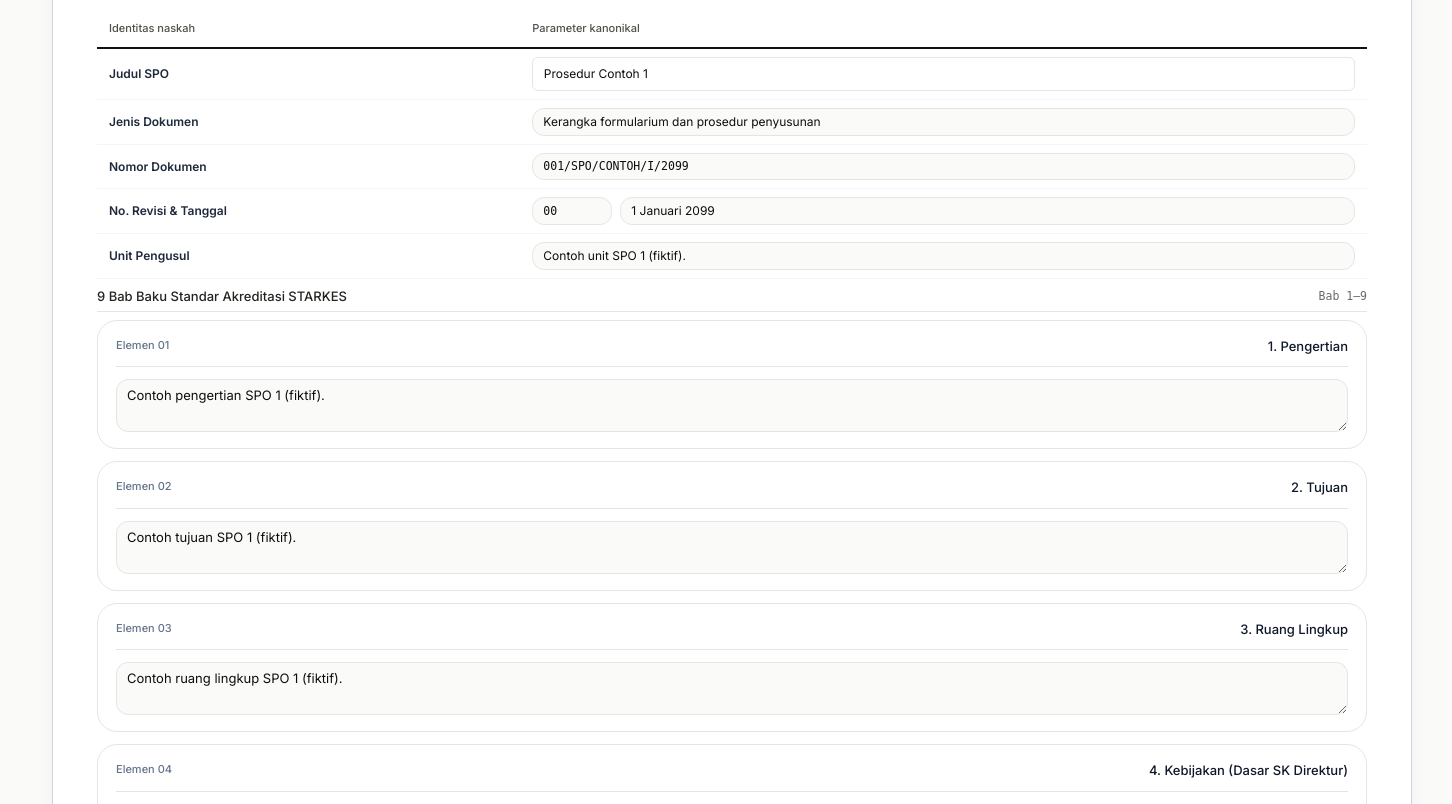
Test case: Studio editor: SPO › reports missing basics in the status line and next to the editor
(page scrolled)
Replace the text in the text box named "1. Pengertian" with "pendek" at (732, 406), box [116,379,1348,432]
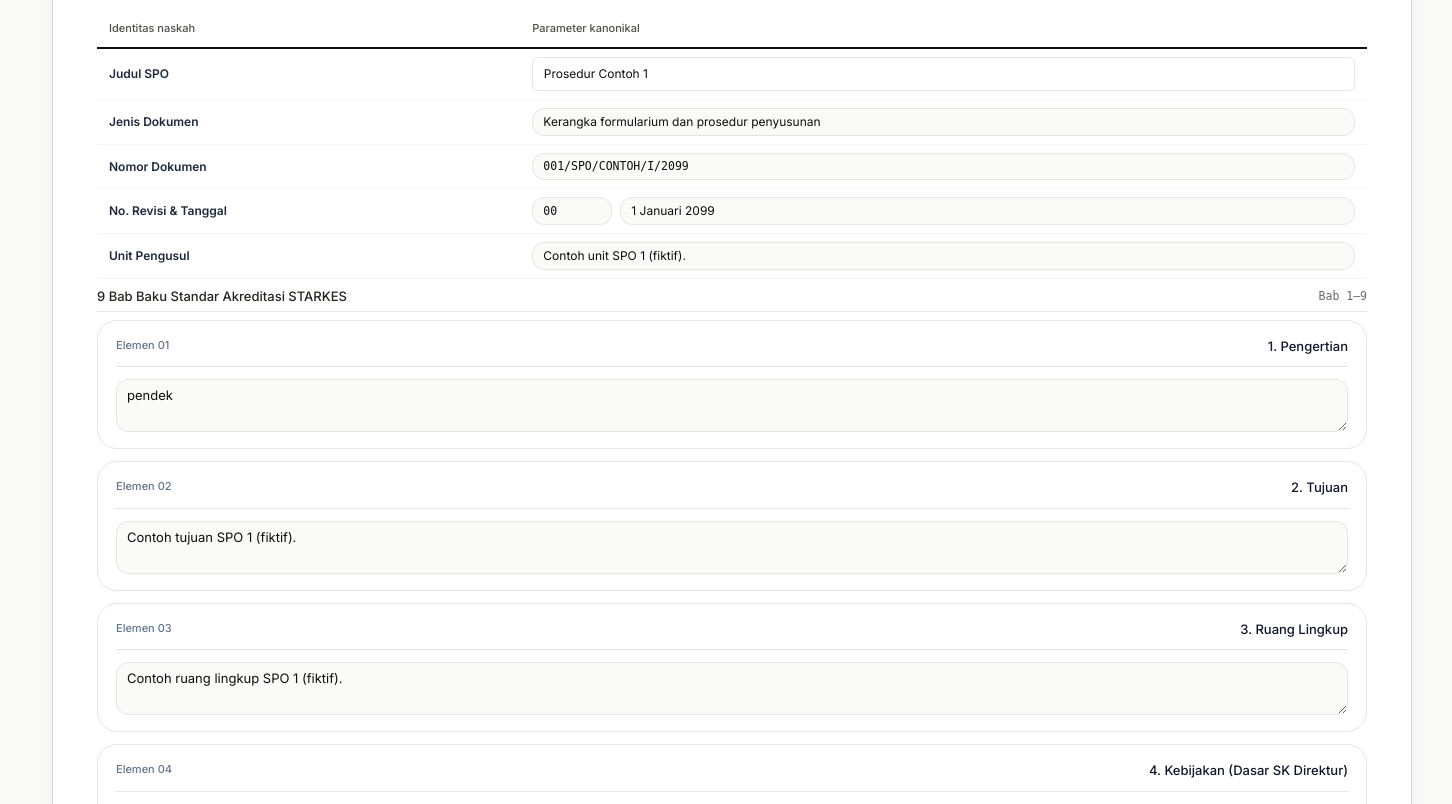
Replace the text in the text box named "1. Pengertian" with "cukup panjang" at (732, 406), box [116,379,1348,432]
(page scrolled)
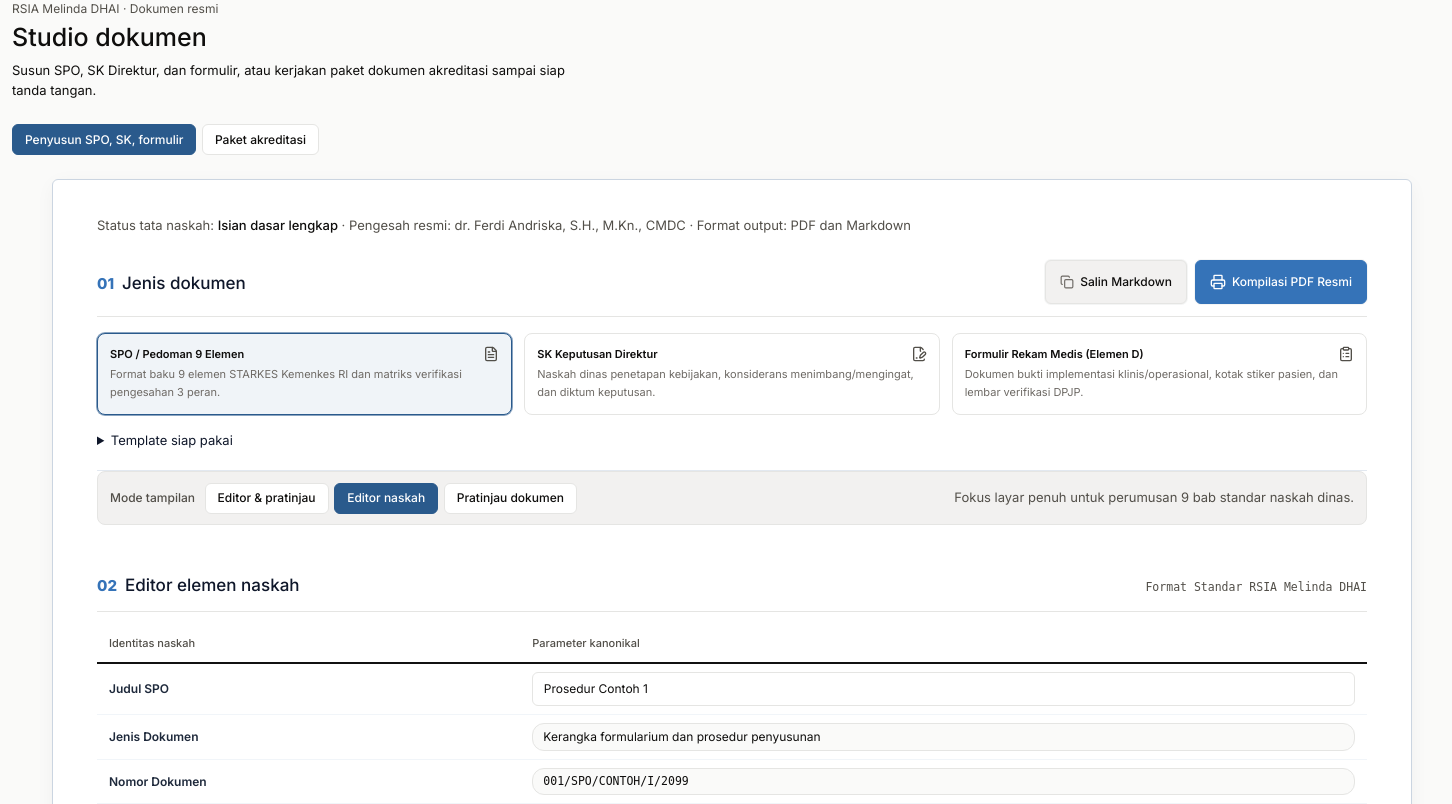
Expected: the message shows "Isian dasar lengkap", [218,217,338,233]
